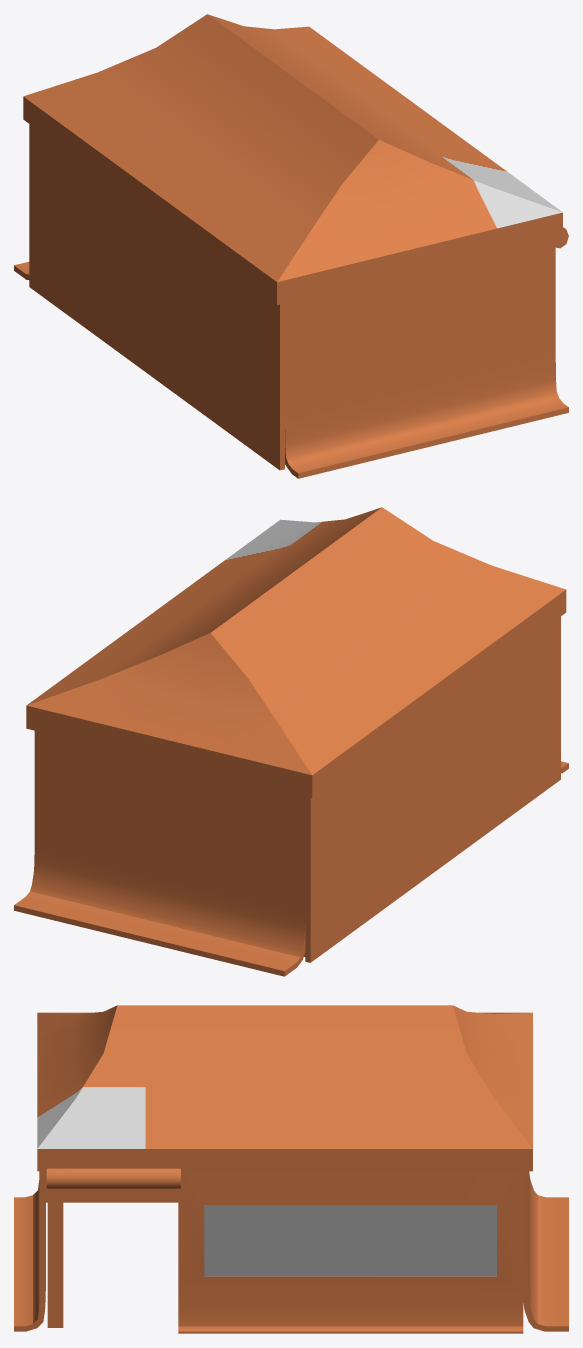
File: fbx_pocha_2.fbx
3 renders of one model, top to bottom at view 1: azimuth 30°, elevation 25°; view 2: azimuth 150°, elevation 25°; view 3: azimuth 270°, elevation 25°, orthographic. The views are drawn at different scales.
Visible parts, largest first — view 1: fbx_pocha_2; view 2: fbx_pocha_2; view 3: fbx_pocha_2.
Boxes of the visible parts, bbox=[...] form: fbx_pocha_2: bbox=[14, 14, 568, 478]; fbx_pocha_2: bbox=[14, 507, 568, 976]; fbx_pocha_2: bbox=[14, 1005, 568, 1333].
Bounding box in the file's own units: 5.57 × 4.8 × 9.25.
2 materials, 1 textured.
